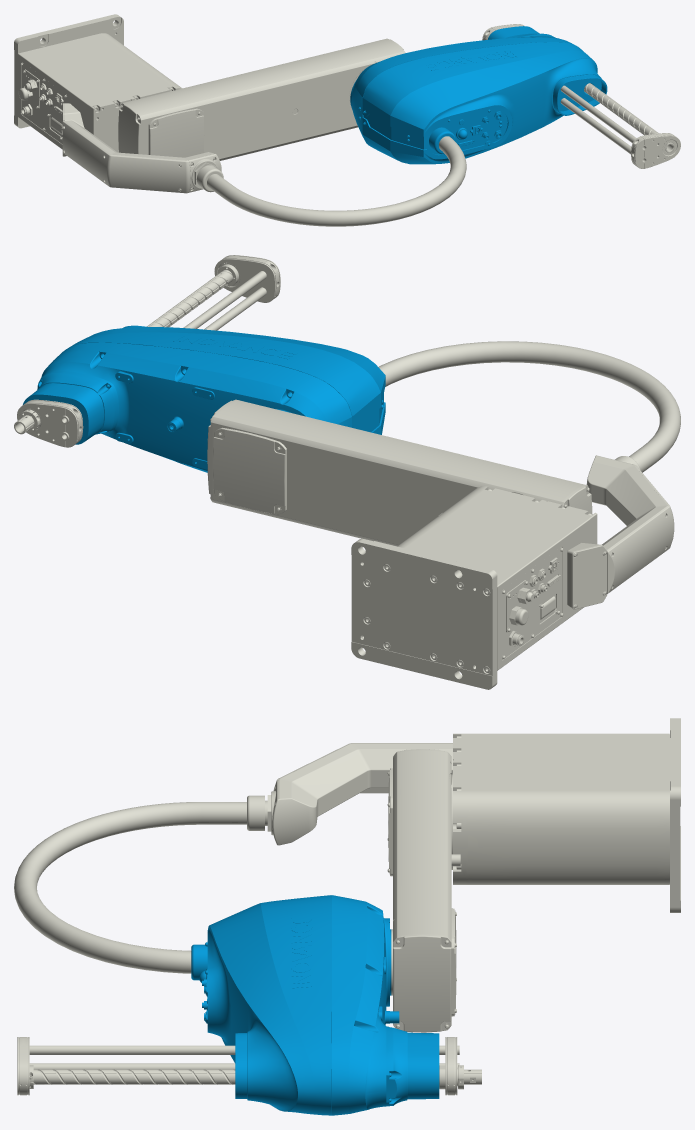
File: IR-S35-100Z42S-INT_3D.fbx
The picture shows the model from 3 angles, top to bottom: view 1: azimuth 30°, elevation 25°; view 2: azimuth 150°, elevation 25°; view 3: azimuth 270°, elevation 25°; orthographic projection. The views are drawn at different scales.
Visible parts, largest first — view 1: Body1 (×6); view 2: Body1 (×6); view 3: Body1 (×6).
Boxes of the visible parts, x1,y1,x2,y2 form: Body1 (×6): (14, 14, 680, 226); Body1 (×6): (14, 255, 680, 689); Body1 (×6): (14, 718, 680, 1115).
Bounding box in the file's own units: 1301 × 230 × 1105.
